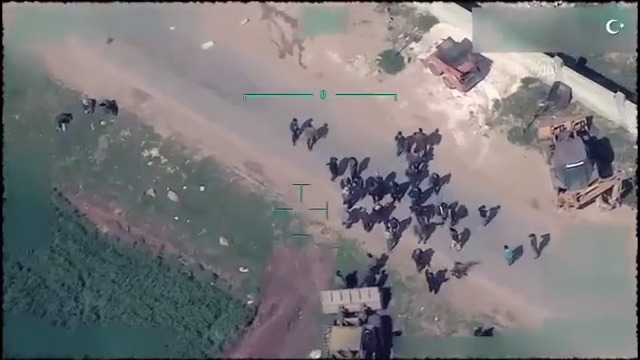insan: (301, 120, 322, 154), (501, 241, 517, 269), (284, 116, 300, 144), (409, 245, 426, 271), (527, 231, 542, 258), (325, 155, 340, 180), (477, 201, 490, 226)
